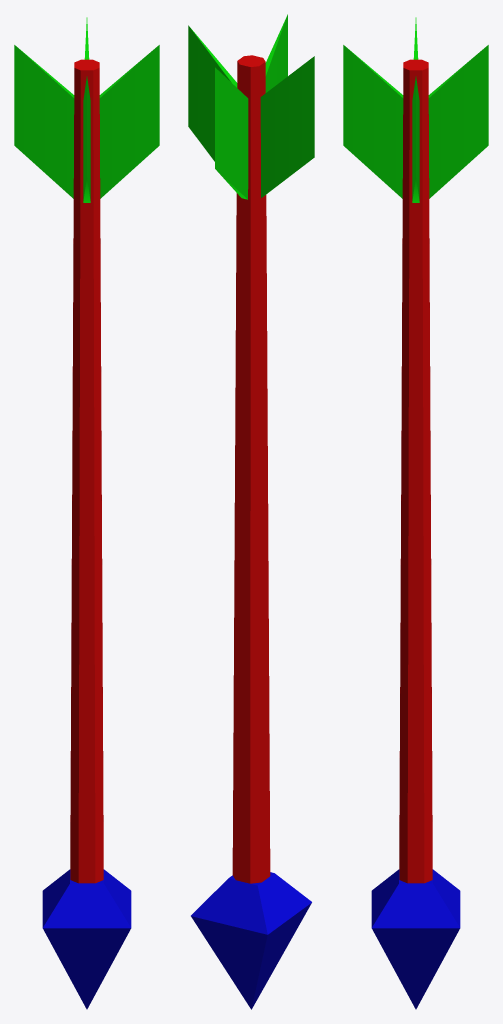
File: bow.fbx
3 renders of one model, left to right at view 1: azimuth 90°, elevation 25°; view 2: azimuth 150°, elevation 25°; view 3: azimuth 270°, elevation 25°, orthographic.
Visible parts, largest first — view 1: pCube6; view 2: pCube6; view 3: pCube6.
Part boxes in pixels (<box>): pCube6: <box>14,17,159,1009</box>; pCube6: <box>188,14,314,1009</box>; pCube6: <box>343,17,488,1009</box>.
Size of the model in its own units: 3.91 by 28.69 by 3.91.
